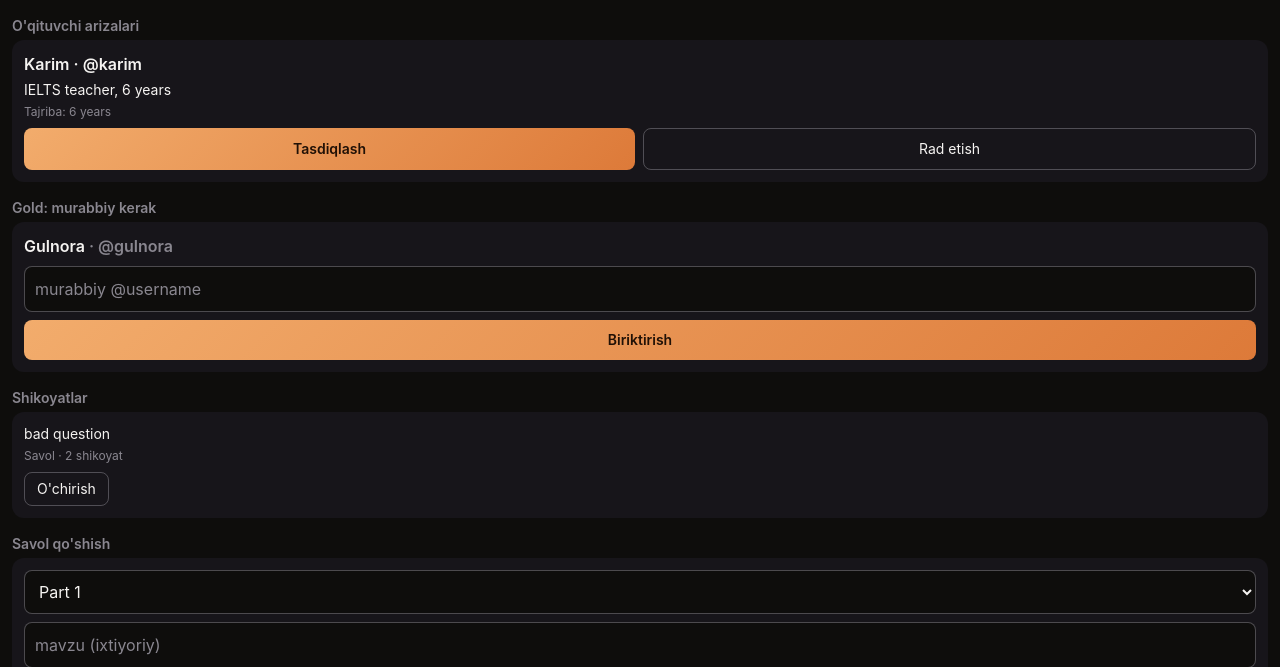
Test: AdminScreen › assigns a coach
This screenshot has width=1280, height=667.
Expected: the text "Gulnora" is shown, [24,236,85,256]
Type "@coach1" into the field with placeholder "murabbiy @username".
click(640, 289); type("@coach1")  # box [24,266,1256,312]
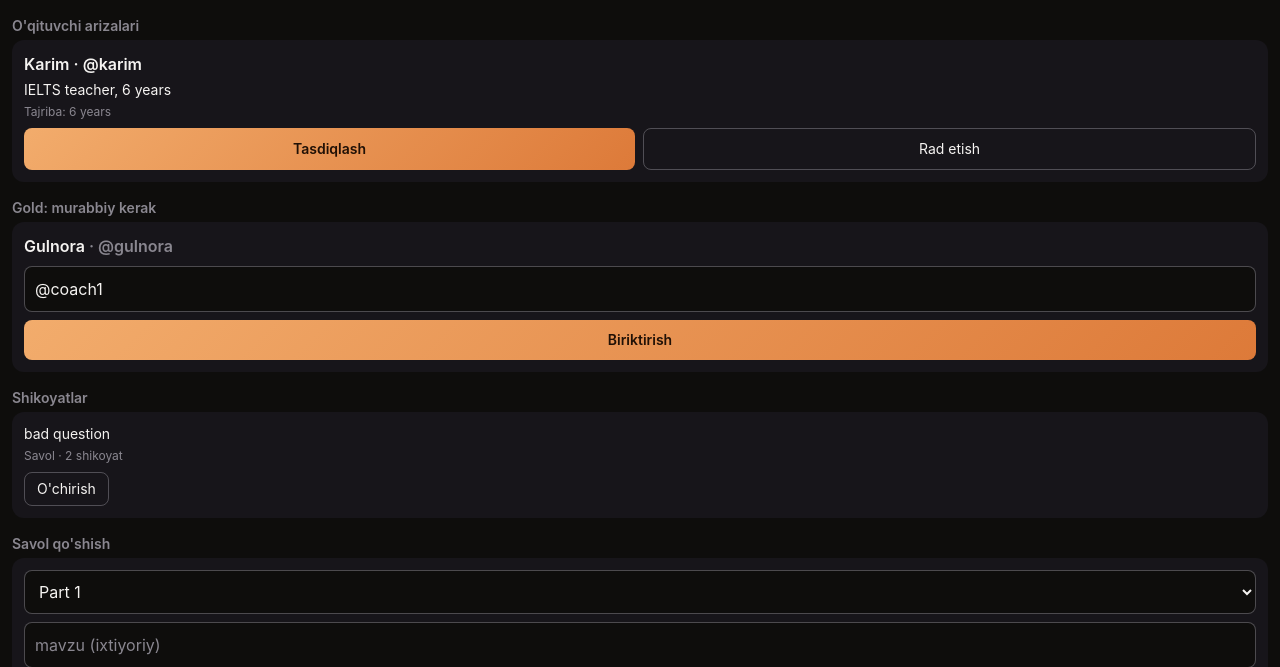
Click the button "Biriktirish".
click(640, 340)  # box [24,320,1256,360]
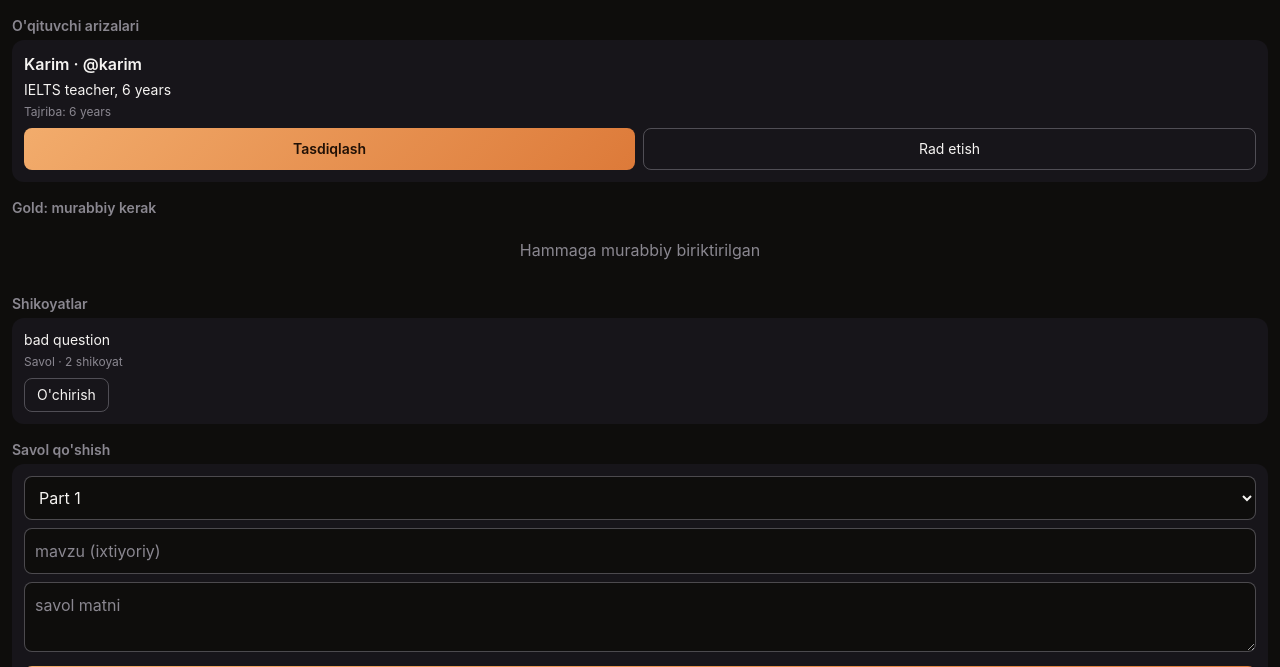
Expected: the text "Gulnora" is gone
